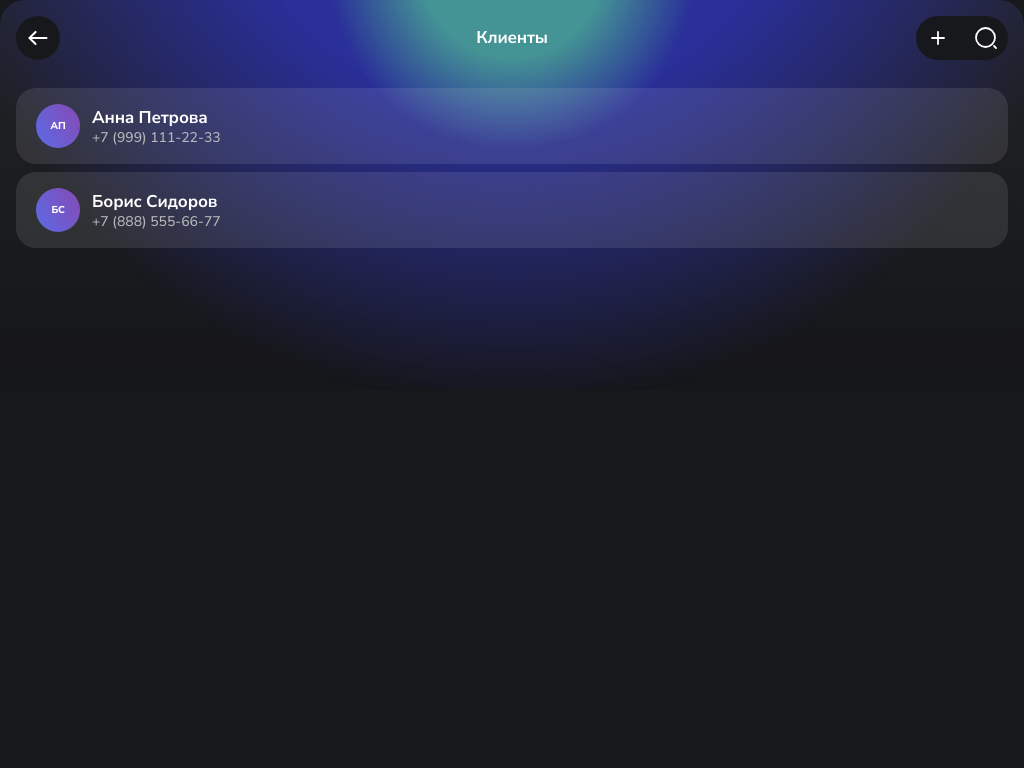
Test case: ClientsPage › удаляет клиента только после explicit confirmation и ровно один раз
Click the button "АП Анна Петрова +7 (999) 111-22-33" at (58, 126), box [16,88,1008,164]
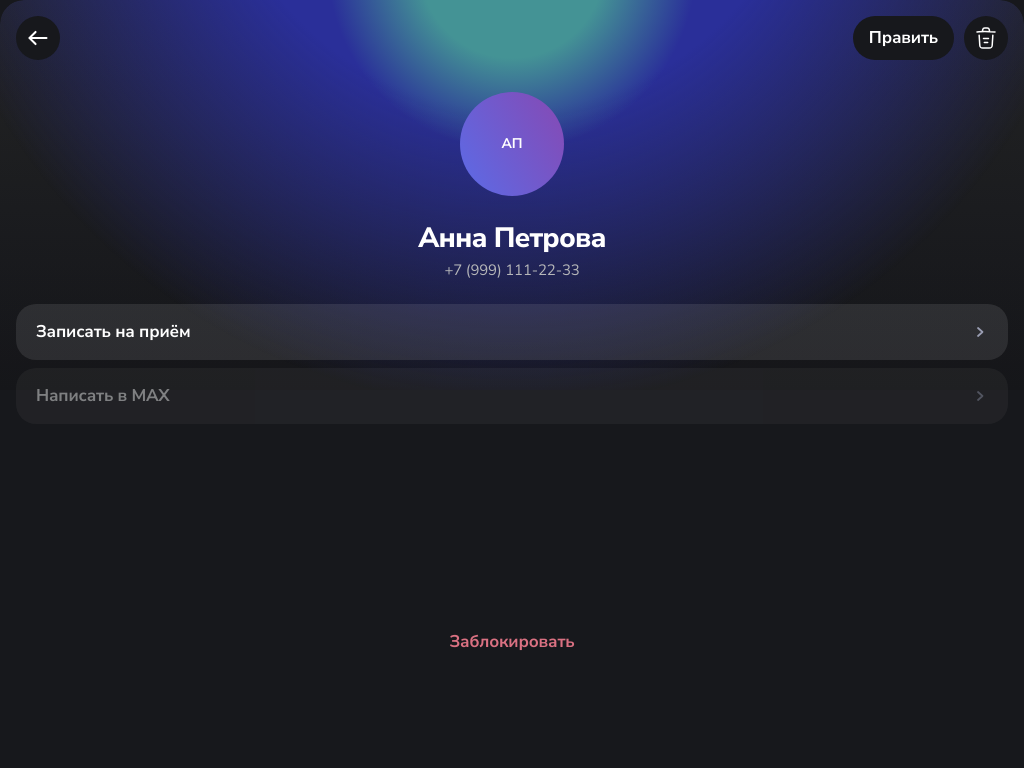
Click the button named "Удалить" at (986, 38), box [964,16,1008,60]
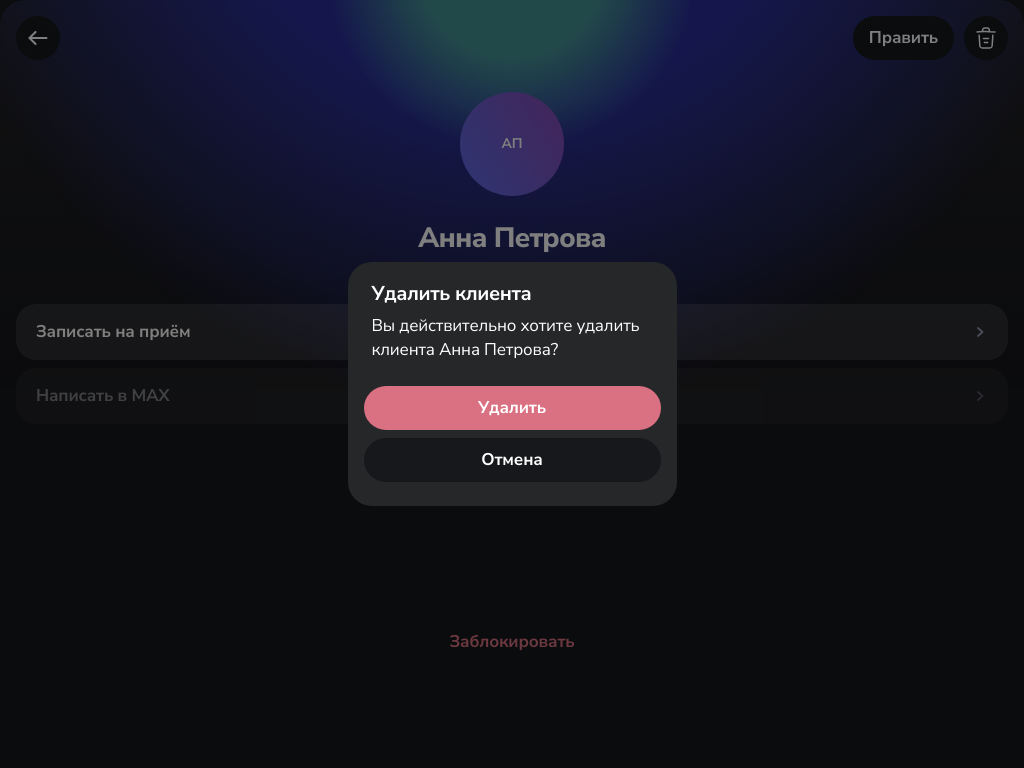
Click the button "Отмена" at (512, 460), box [364,438,660,482]
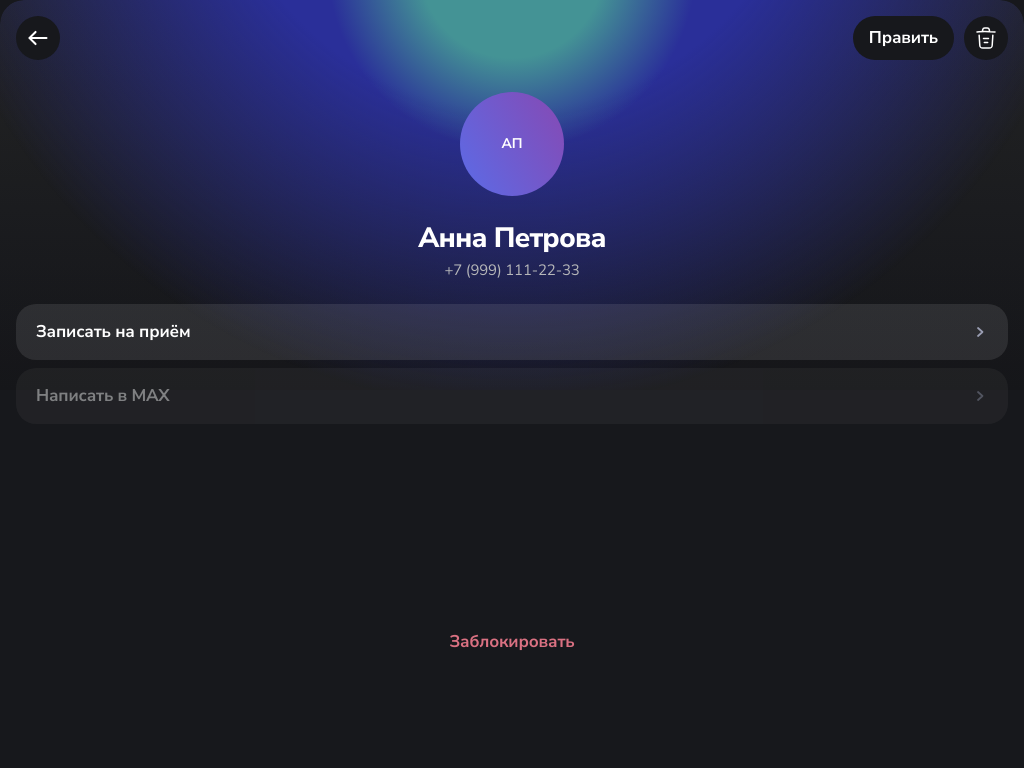
Click the button named "Удалить" at (986, 38), box [964,16,1008,60]
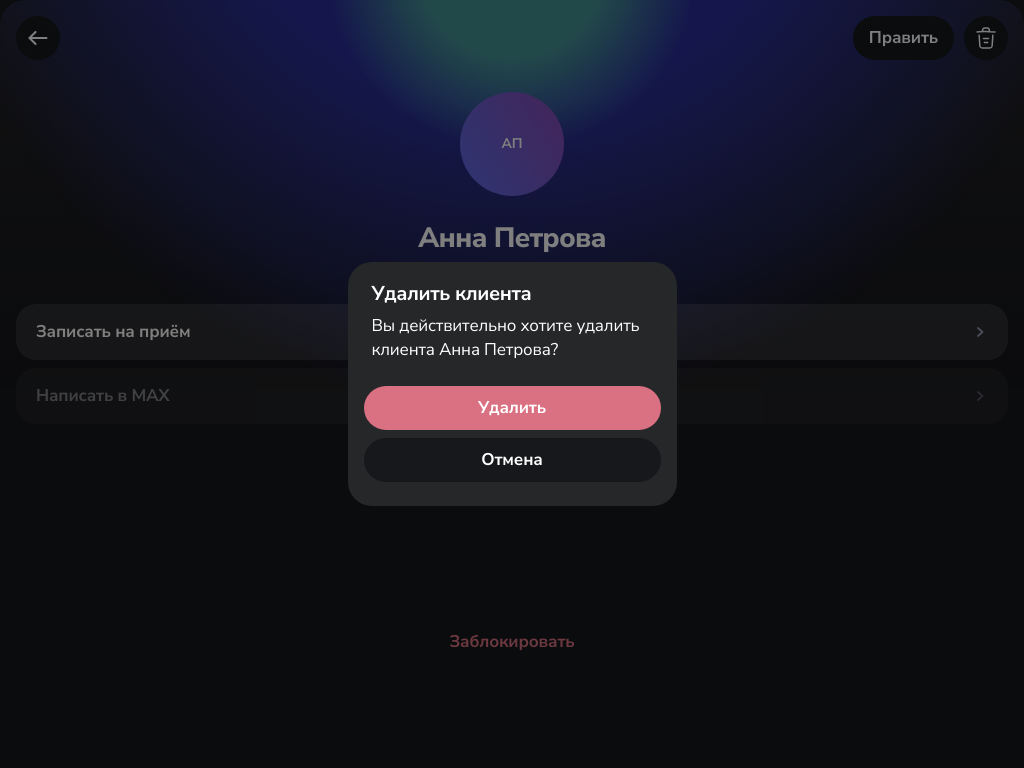
Click the button "Удалить" at (512, 408), box [364,386,660,430]
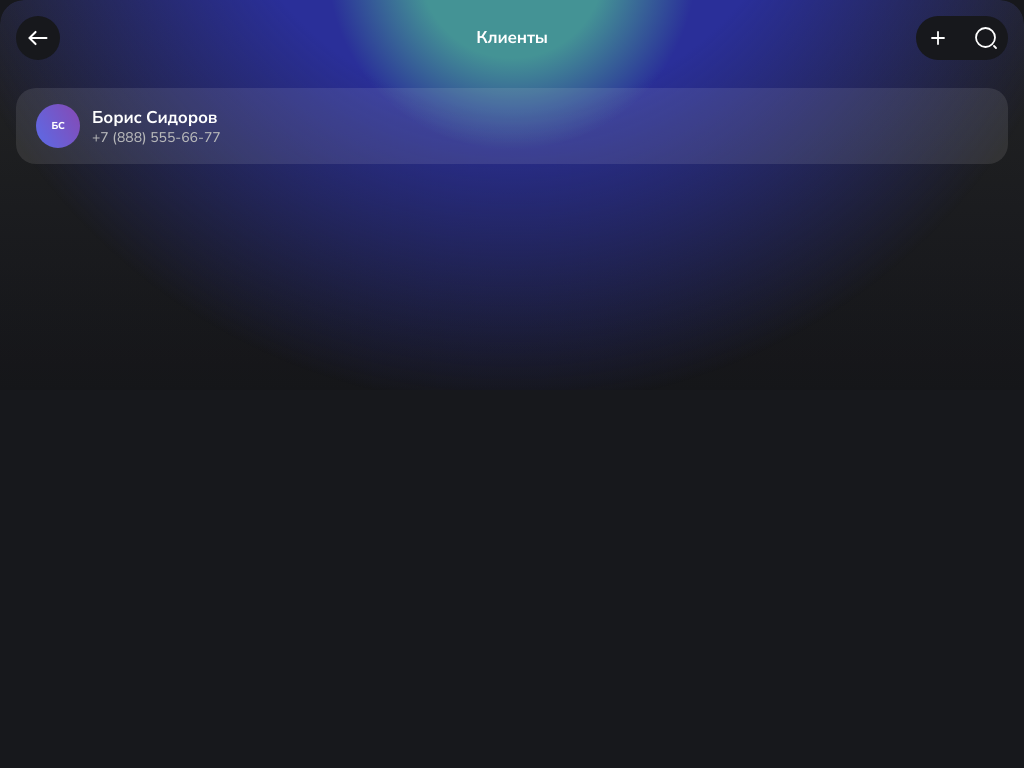
Now the text "Борис Сидоров" is shown, box [92,106,217,129]
Now the text "Анна Петрова" is gone
